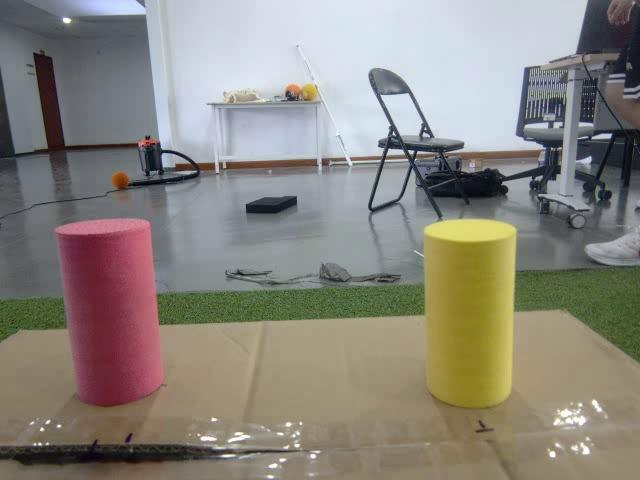red_cylinder: (54, 218, 162, 405)
yellow_cylinder: (424, 218, 516, 406)
